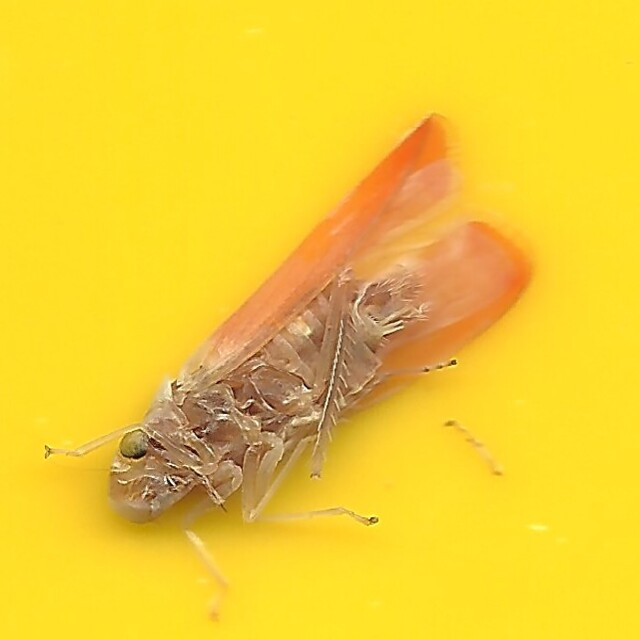Hemiptera: (100, 107, 540, 533)
